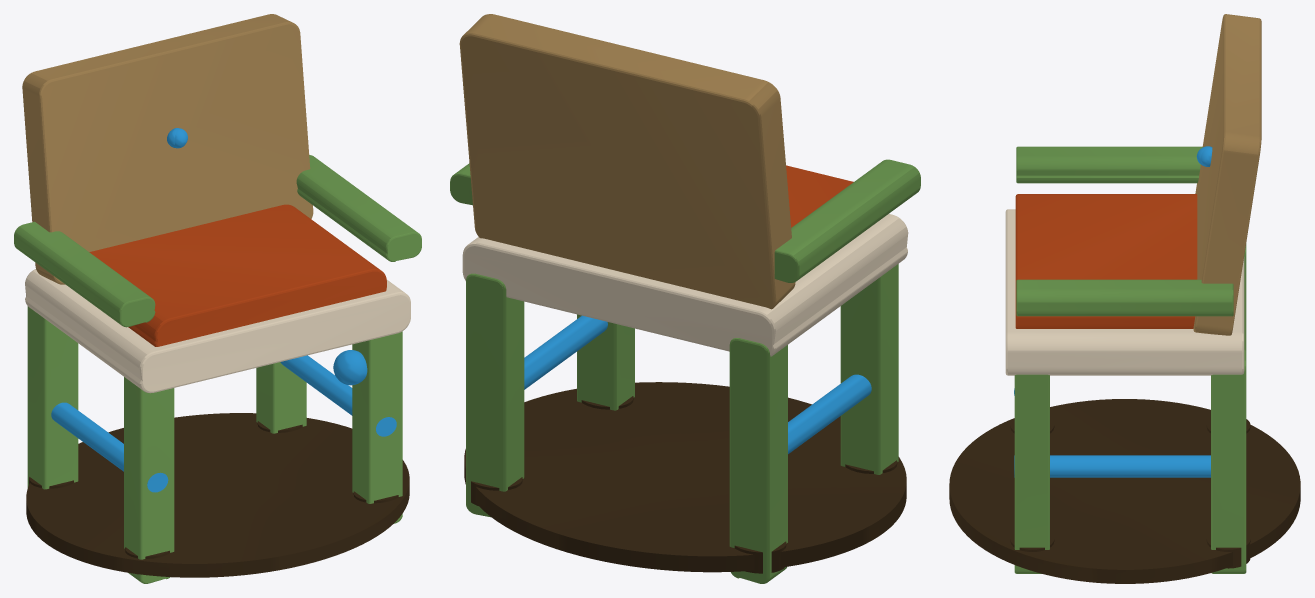
File: 1365_城市运转图鉴_点状贴纸.glb
3 renders of one model, left to right at view 1: azimuth 30°, elevation 25°; view 2: azimuth 150°, elevation 25°; view 3: azimuth 270°, elevation 25°, orthographic. The views are drawn at different scales.
Parts seen in each view (by area): view 1: card_1365; view 2: card_1365; view 3: card_1365.
Boxes of the visible parts, box(x1,y1,x2,y2) form: card_1365: box(14, 14, 421, 583); card_1365: box(450, 14, 920, 583); card_1365: box(949, 14, 1300, 583).
Size of the model in its own units: 0.8384 by 1 by 0.7275.
